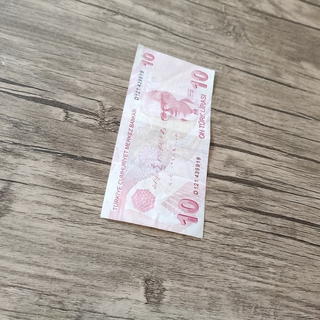10TLBack: (99, 42, 215, 240)
